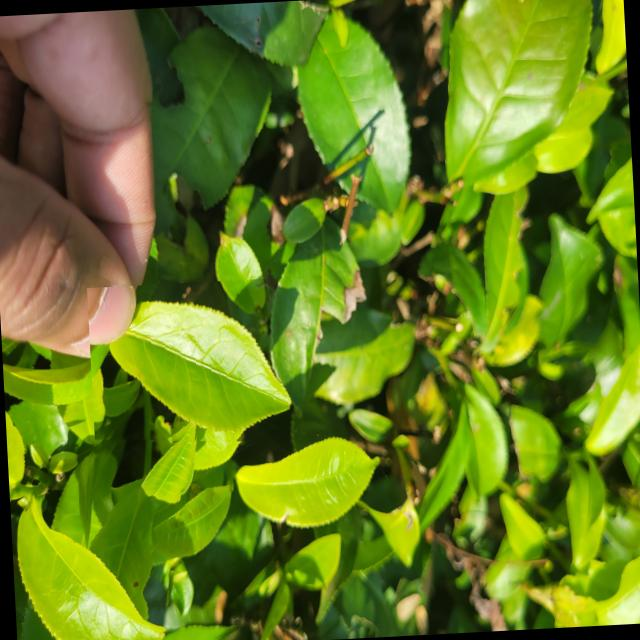Catagory A 1-2 days: (86, 277, 313, 454)
